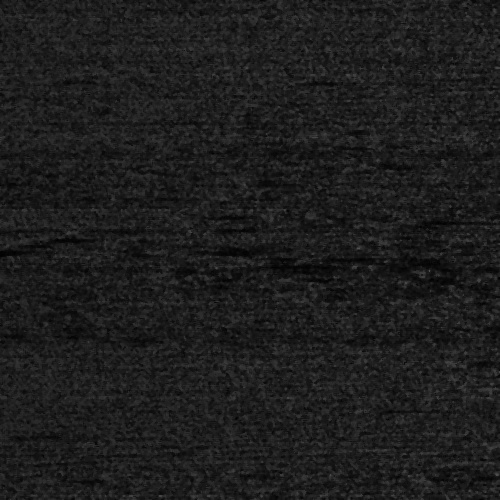shadow: (0, 245, 27, 254)
